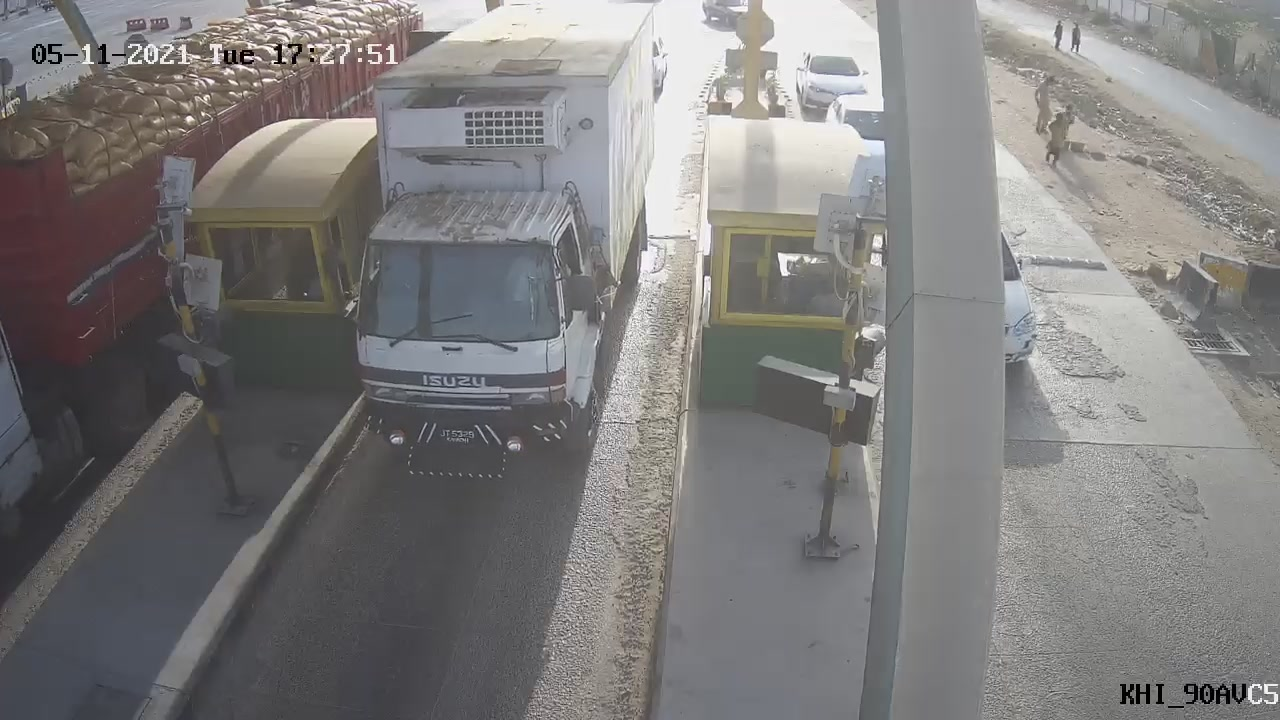F5: (293, 1, 678, 508)
